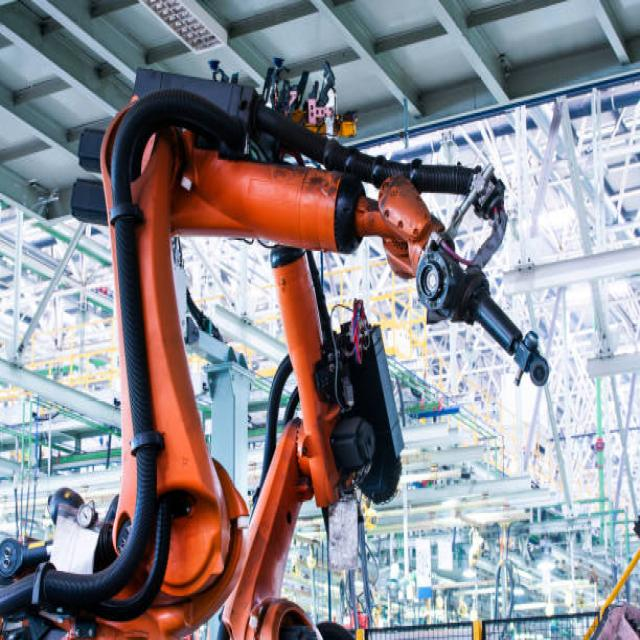Robotic-arm: (21, 54, 550, 640)
